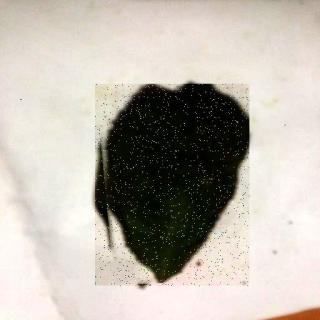Red Leaf Spot: (96, 85, 251, 288)
